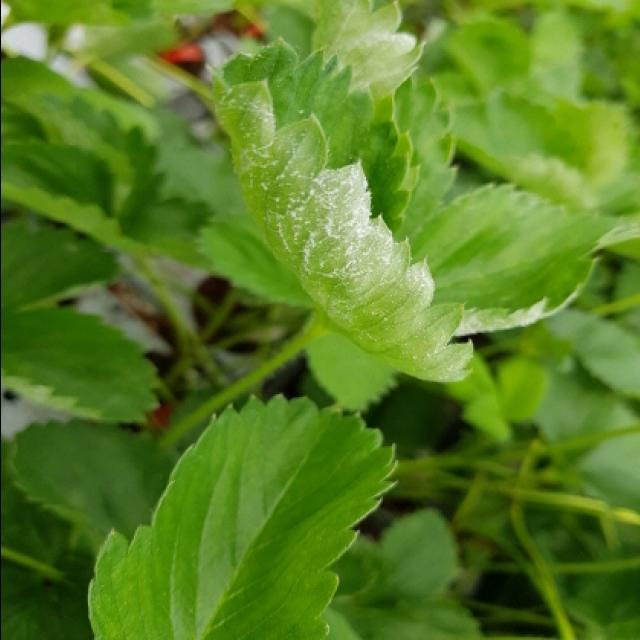Powdery Mildew Leaf: (204, 32, 473, 384), (409, 183, 640, 337), (311, 2, 423, 103)
